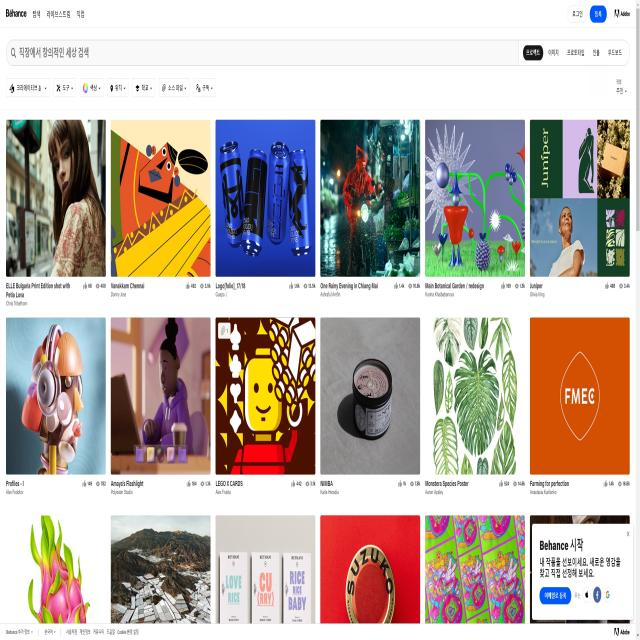menu-bar: (27, 4, 90, 29)
search: (6, 38, 631, 66)
